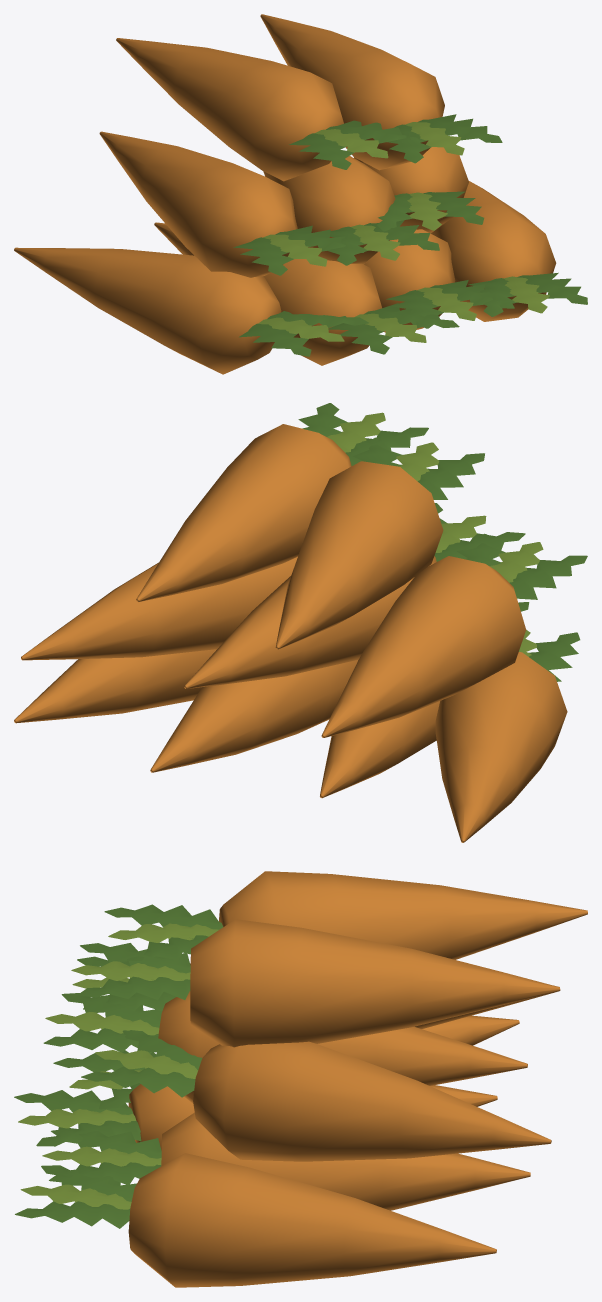
Rendered from pile-vegetable-9.gltf.
3 views of the same model, one above another, from view 1: azimuth 30°, elevation 25°; view 2: azimuth 150°, elevation 25°; view 3: azimuth 270°, elevation 25° (orthographic). The views are drawn at different scales.
Visible parts, largest first — view 1: pile-vegetable-9; view 2: pile-vegetable-9; view 3: pile-vegetable-9.
Part boxes in pixels (x1,y1,x2,y2): pile-vegetable-9: [14, 14, 587, 374]; pile-vegetable-9: [14, 403, 587, 842]; pile-vegetable-9: [14, 871, 587, 1287].
Bounding box in the file's own units: 0.6447 × 0.392 × 0.6733.
